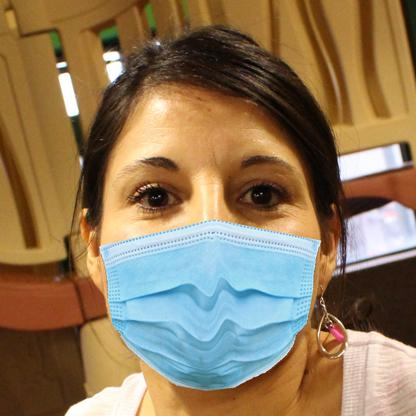mask: (99, 218, 318, 389)
